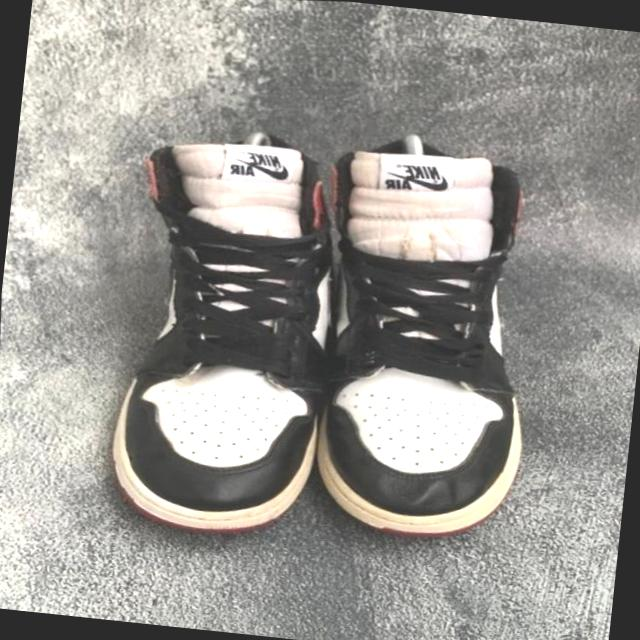nike_fake_jordan: (73, 112, 372, 556), (291, 119, 552, 552)
